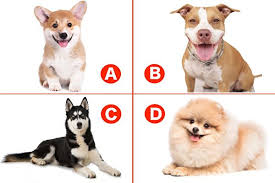dog: (164, 4, 241, 60), (26, 1, 98, 56), (167, 98, 235, 149), (57, 95, 97, 137)
